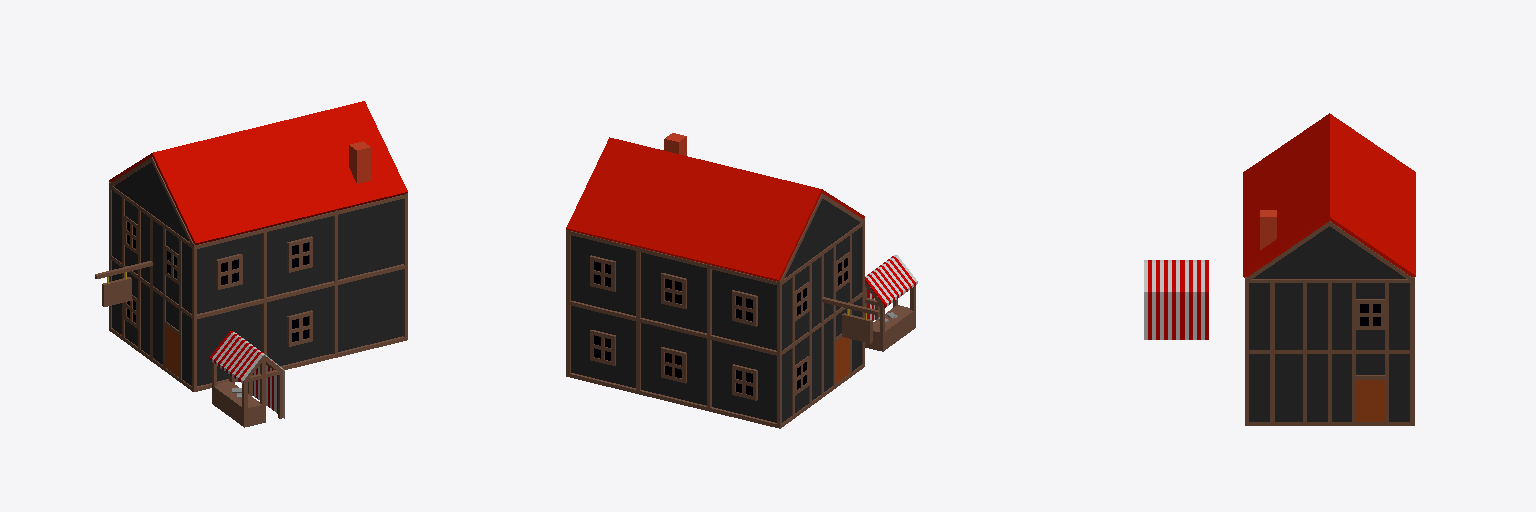
Rendered from timberframedclothier.obj.
3 renders of one model, left to right at view 1: azimuth 30°, elevation 25°; view 2: azimuth 150°, elevation 25°; view 3: azimuth 270°, elevation 25°, orthographic.
Visible parts, largest first — view 1: Cube.005, Cube.007_Cube.011, Cube.011_Cube.015, Cube.018_Cube.016, Cube.056_Cube.081, Cube.001_Cube.058, Cube.013_Cube.080, Cube.006_Cube.010, Cube.055_Cube.059, Cube.026_Cube.019, Cube.073_Cube.078, Cube.012_Cube.017 (+5 smaller); view 2: Cube.005, Cube.007_Cube.011, Cube.023_Cube.026, Cube.022_Cube.025, Cube.021_Cube.024, Cube.015_Cube.020, Cube.019_Cube.022, Cube.017_Cube.021, Cube.014_Cube.018, Cube.008, Cube.020_Cube.023, Cube.073_Cube.078 (+6 smaller); view 3: Cube.005, Cube.007_Cube.011, Cube.147_Cube.153, Cube.003, Cube.033, Cube.027, Cube.047_Cube.049, Cube.031, Cube.016_Cube.013, Cube.006_Cube.010, Cube.012_Cube.017, Cube.035 (+4 smaller).
Boxes of the visible parts, <box> form: Cube.005: <box>112,162,402,385</box>; Cube.007_Cube.011: <box>109,101,407,244</box>; Cube.011_Cube.015: <box>195,264,406,319</box>; Cube.018_Cube.016: <box>195,195,406,249</box>; Cube.056_Cube.081: <box>216,254,242,289</box>; Cube.001_Cube.058: <box>287,310,312,346</box>; Cube.013_Cube.080: <box>287,236,312,272</box>; Cube.006_Cube.010: <box>349,141,370,183</box>; Cube.055_Cube.059: <box>197,336,406,391</box>; Cube.026_Cube.019: <box>192,243,196,391</box>; Cube.073_Cube.078: <box>102,277,131,306</box>; Cube.012_Cube.017: <box>403,193,407,339</box>; Cube.005: <box>571,199,861,422</box>; Cube.007_Cube.011: <box>566,137,864,280</box>; Cube.023_Cube.026: <box>567,373,776,427</box>; Cube.022_Cube.025: <box>567,301,776,355</box>; Cube.021_Cube.024: <box>570,231,776,284</box>; Cube.015_Cube.020: <box>732,290,757,326</box>; Cube.019_Cube.022: <box>661,347,686,383</box>; Cube.017_Cube.021: <box>590,330,615,365</box>; Cube.014_Cube.018: <box>661,273,686,308</box>; Cube.008: <box>590,255,615,291</box>; Cube.020_Cube.023: <box>732,364,757,400</box>; Cube.073_Cube.078: <box>842,313,872,343</box>; Cube.005: <box>1249,226,1409,421</box>; Cube.007_Cube.011: <box>1243,113,1415,277</box>; Cube.147_Cube.153: <box>1144,292,1208,339</box>; Cube.003: <box>1356,380,1384,421</box>; Cube.033: <box>1356,299,1384,329</box>; Cube.027: <box>1410,277,1414,425</box>; Cube.047_Cube.049: <box>1270,279,1274,423</box>; Cube.031: <box>1249,422,1410,425</box>; Cube.016_Cube.013: <box>1248,350,1409,353</box>; Cube.006_Cube.010: <box>1260,210,1276,249</box>; Cube.012_Cube.017: <box>1245,277,1248,425</box>; Cube.035: <box>1352,279,1355,423</box>.
Size of the model in its own units: 15.3 by 11.25 by 13.34.